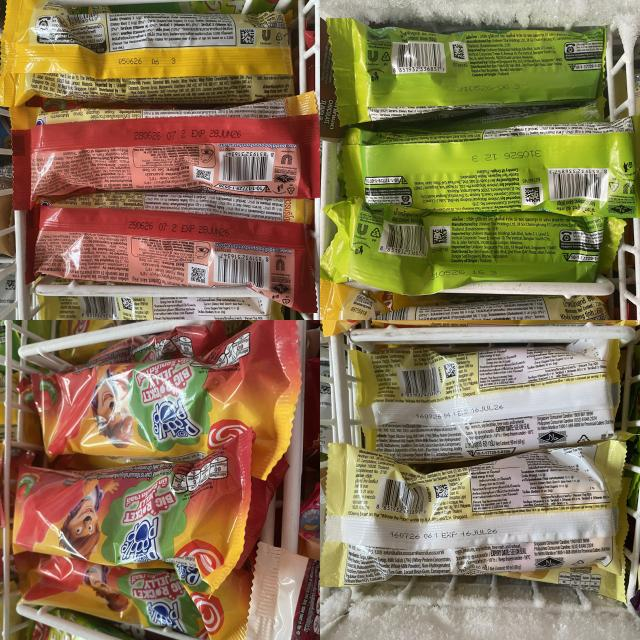plastik: (320, 434, 628, 601), (15, 460, 289, 640), (32, 321, 301, 479), (14, 430, 254, 592), (10, 92, 320, 210), (35, 191, 315, 311), (350, 340, 619, 463), (0, 0, 294, 104), (341, 116, 640, 218), (326, 18, 605, 125), (320, 198, 625, 295)
